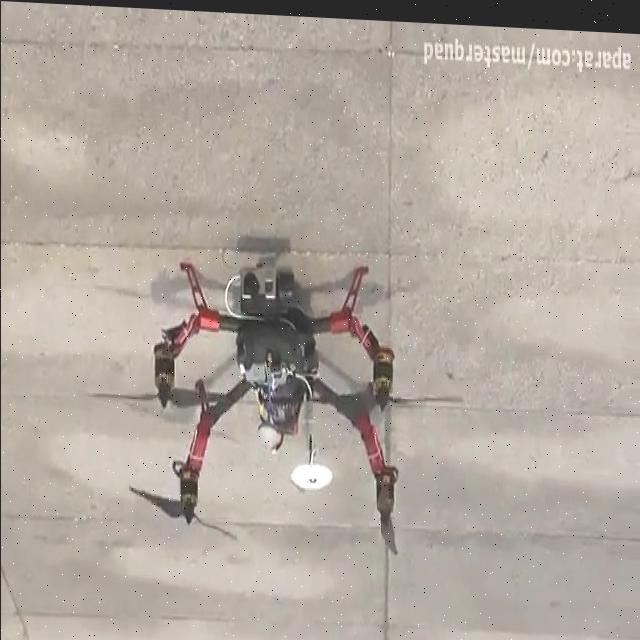drone: (87, 243, 466, 555)
